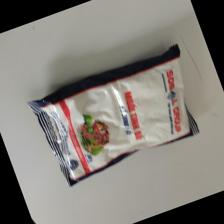Salt: (24, 44, 200, 191)
